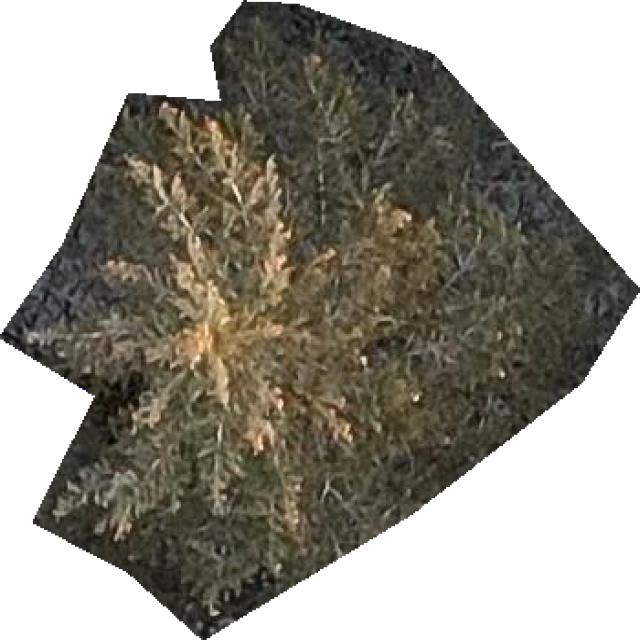spruce: (0, 2, 638, 638)
